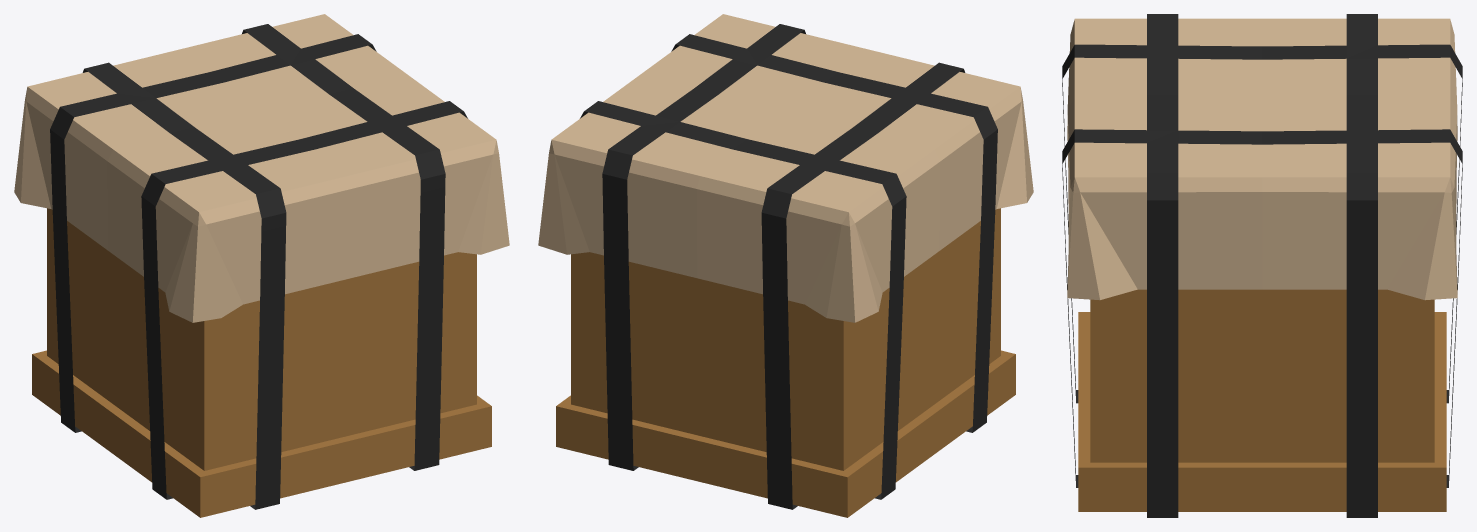
The model's file is apocalypse_crate-supply.fbx.
3 views of the same model, side by side, from view 1: azimuth 30°, elevation 25°; view 2: azimuth 150°, elevation 25°; view 3: azimuth 270°, elevation 25° (orthographic). The views are drawn at different scales.
Visible parts, largest first — view 1: apocalypse_crate_supply; view 2: apocalypse_crate_supply; view 3: apocalypse_crate_supply.
Boxes of the visible parts, x1,y1,x2,y2 form: apocalypse_crate_supply: (14,14,509,517); apocalypse_crate_supply: (538,14,1033,517); apocalypse_crate_supply: (1062,14,1462,517).
Bounding box in the file's own units: 200 × 181 × 190.
